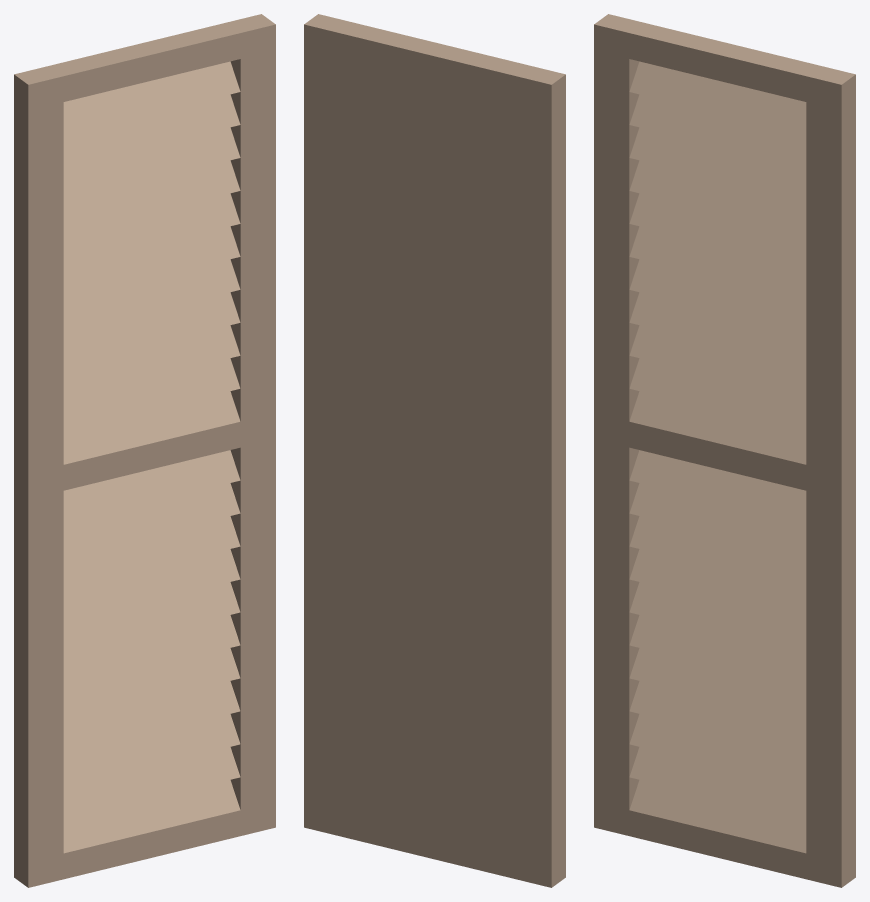
File: Prop_Exterior_Shutter_Louvered.fbx
3 renders of one model, left to right at view 1: azimuth 30°, elevation 25°; view 2: azimuth 150°, elevation 25°; view 3: azimuth 330°, elevation 25°, orthographic.
Parts seen in each view (by area): view 1: object1.019; view 2: object1.019; view 3: object1.019.
Boxes of the visible parts, x1,y1,x2,y2 form: object1.019: (14, 14, 275, 887); object1.019: (304, 14, 565, 887); object1.019: (594, 14, 855, 887).
Size of the model in its own units: 50 by 155 by 5.
